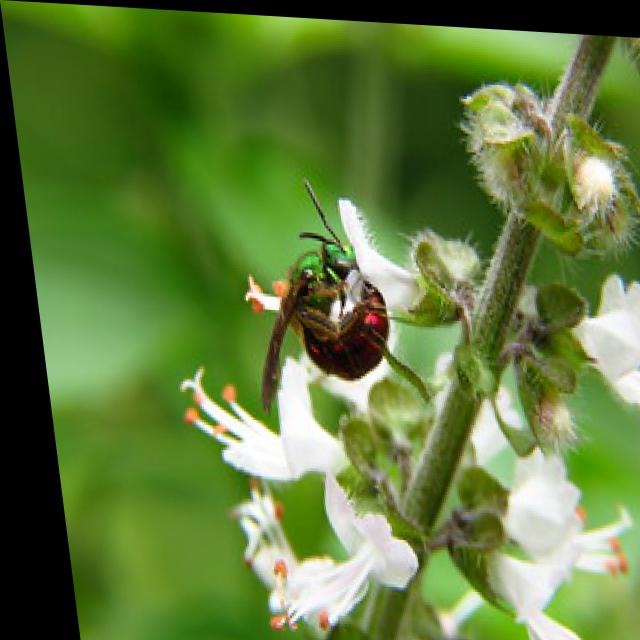Abeille: (212, 168, 412, 421)
